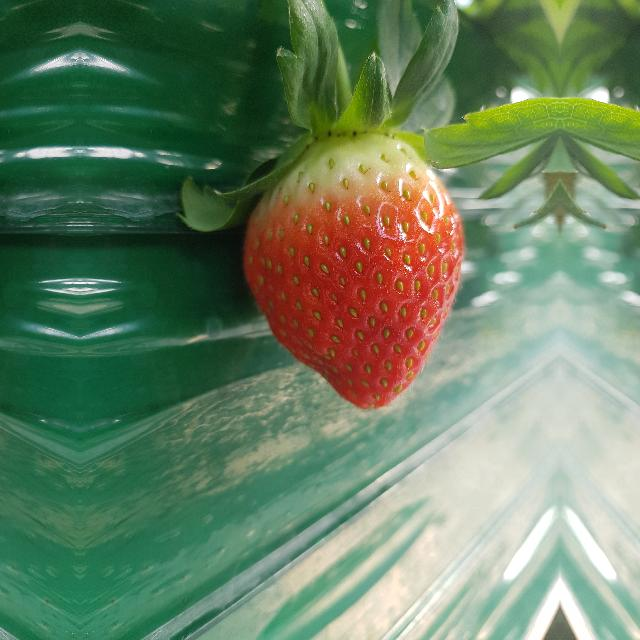Health_100: (237, 133, 463, 411)
